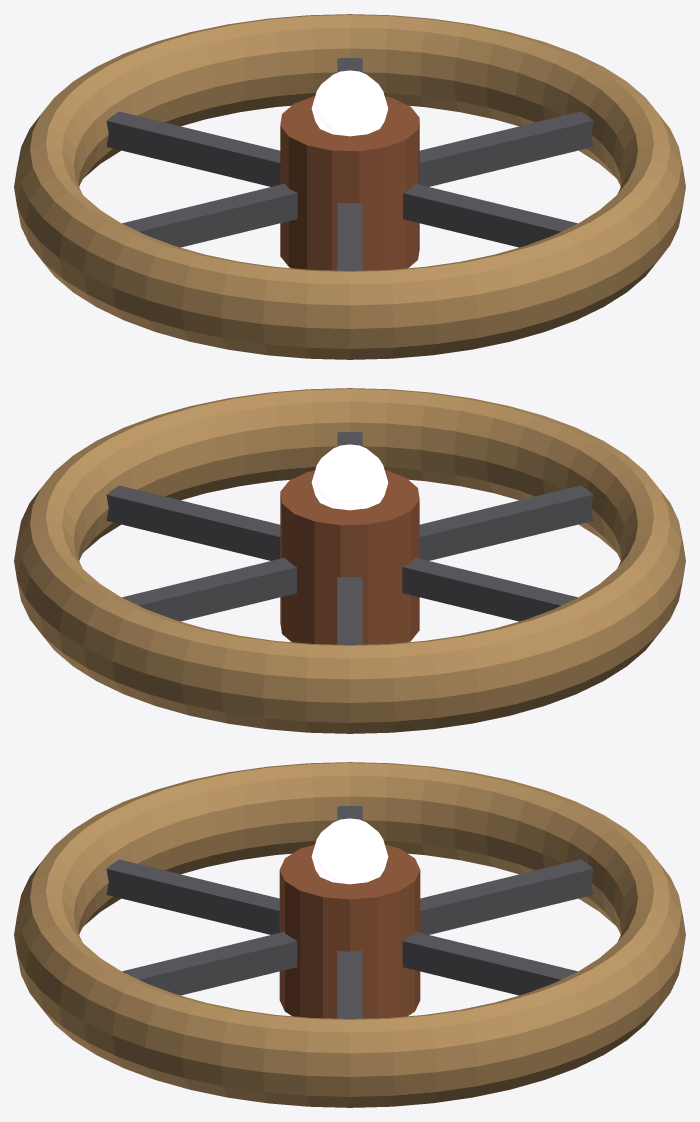
Rendered from SM_Keeper_Hittite_Rotorm1m1.fbx.
3 views of the same model, one above another, from view 1: azimuth 30°, elevation 25°; view 2: azimuth 150°, elevation 25°; view 3: azimuth 270°, elevation 25° (orthographic).
Visible parts, largest first — view 1: SM_Keeper_Hittite_Rotorm1m1; view 2: SM_Keeper_Hittite_Rotorm1m1; view 3: SM_Keeper_Hittite_Rotorm1m1.
Boxes of the visible parts, left/top/right/bottom form: SM_Keeper_Hittite_Rotorm1m1: left=14, top=14, right=685, bottom=359; SM_Keeper_Hittite_Rotorm1m1: left=14, top=388, right=685, bottom=733; SM_Keeper_Hittite_Rotorm1m1: left=14, top=762, right=685, bottom=1107.
Bounding box in the file's own units: 17.5 × 5.13 × 17.5.
